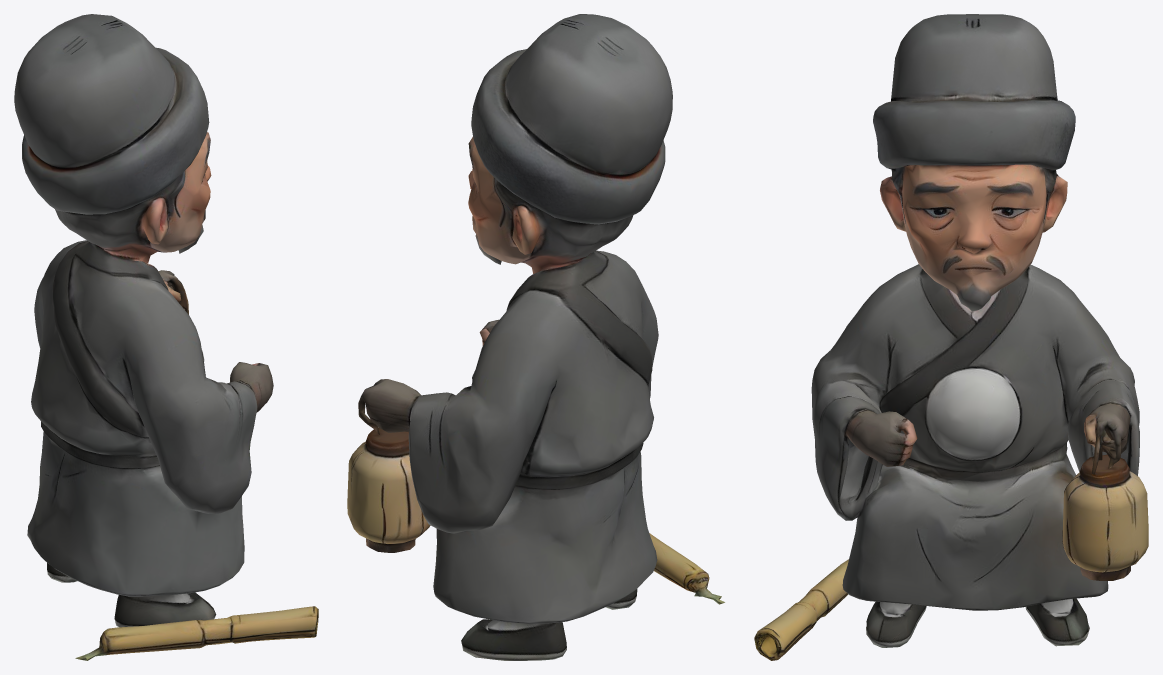
The model's file is n_genggu.glb.
3 views of the same model, side by side, from view 1: azimuth 30°, elevation 25°; view 2: azimuth 150°, elevation 25°; view 3: azimuth 270°, elevation 25° (orthographic). The views are drawn at different scales.
Visible parts, largest first — view 1: tripo_node_3d4407d2-b787-44ec-ac4e-3c728ebac4c9; view 2: tripo_node_3d4407d2-b787-44ec-ac4e-3c728ebac4c9; view 3: tripo_node_3d4407d2-b787-44ec-ac4e-3c728ebac4c9.
Boxes of the visible parts, x1,y1,x2,y2 form: tripo_node_3d4407d2-b787-44ec-ac4e-3c728ebac4c9: (14, 14, 318, 660); tripo_node_3d4407d2-b787-44ec-ac4e-3c728ebac4c9: (347, 14, 724, 660); tripo_node_3d4407d2-b787-44ec-ac4e-3c728ebac4c9: (754, 14, 1148, 660).
Bounding box in the file's own units: 0.4328 × 0.9998 × 0.5982.
Materials: 1 (1 with a texture image).
